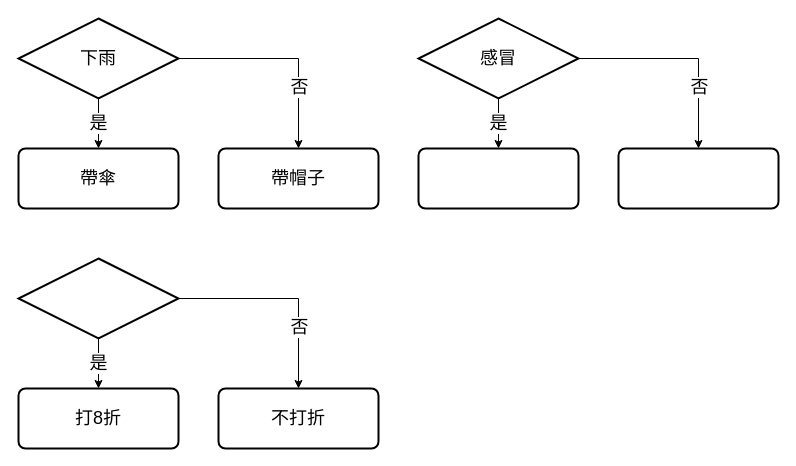
Image size: 796x466. Some labels were removed from this diagram. Each missing label, with the centre of its shape:
"去運動" goes at (698,178).
"多休息" goes at (498,178).
"金額 > $10,000" goes at (98,298).
